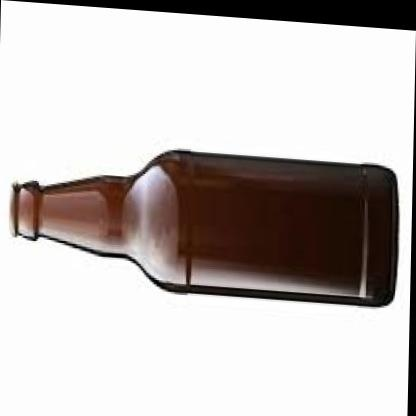trash: (11, 151, 397, 305)
